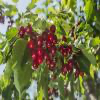Cherry leaf: (12, 38, 28, 71), (16, 60, 33, 88), (4, 53, 14, 95), (74, 21, 96, 39), (42, 65, 51, 100), (73, 36, 92, 52), (84, 0, 94, 28), (4, 26, 19, 41), (27, 0, 41, 9)
